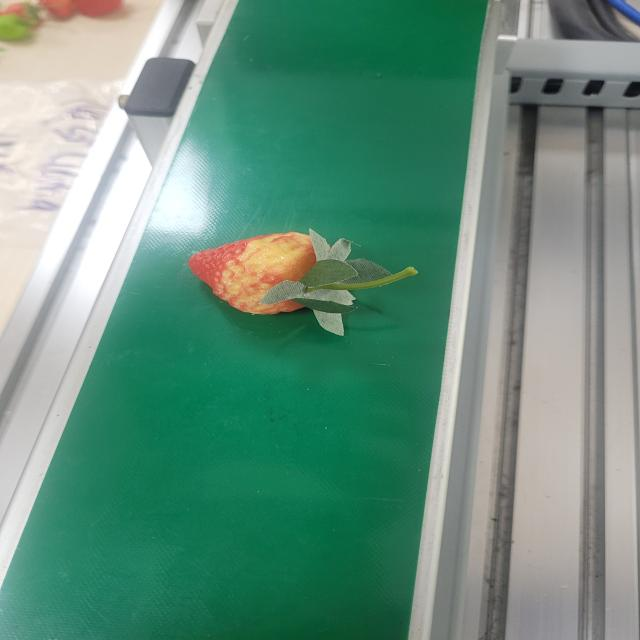Moldy Strawberry: (187, 230, 370, 325)
